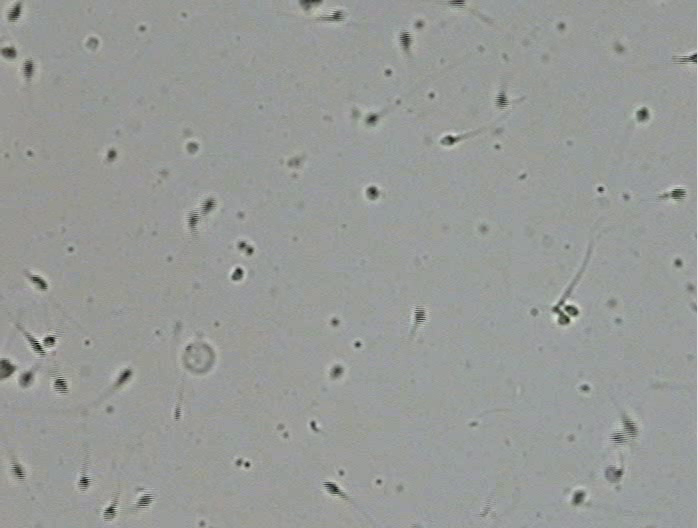Impurity: (183, 343, 214, 373), (85, 37, 99, 50)
S: (26, 334, 47, 357), (621, 416, 638, 438), (28, 275, 48, 291), (605, 466, 623, 483), (1, 358, 15, 379), (136, 493, 154, 509), (201, 197, 216, 216), (10, 463, 25, 482), (322, 481, 341, 496), (53, 376, 68, 394), (494, 92, 509, 110), (186, 210, 200, 229), (7, 4, 21, 22), (608, 431, 627, 444), (414, 305, 426, 324), (570, 490, 585, 505), (117, 369, 131, 385), (103, 505, 117, 521), (635, 107, 649, 123), (22, 60, 34, 78), (399, 30, 411, 48), (670, 188, 687, 200), (440, 135, 458, 146), (366, 186, 379, 201), (1, 47, 17, 59), (20, 372, 33, 386), (330, 10, 345, 22), (330, 365, 343, 378), (231, 267, 243, 281), (42, 336, 56, 348), (364, 114, 379, 125), (78, 476, 88, 492), (565, 305, 578, 316), (685, 53, 697, 64), (449, 1, 465, 9), (187, 142, 197, 154), (558, 314, 570, 324), (302, 1, 315, 10), (107, 149, 117, 160)
